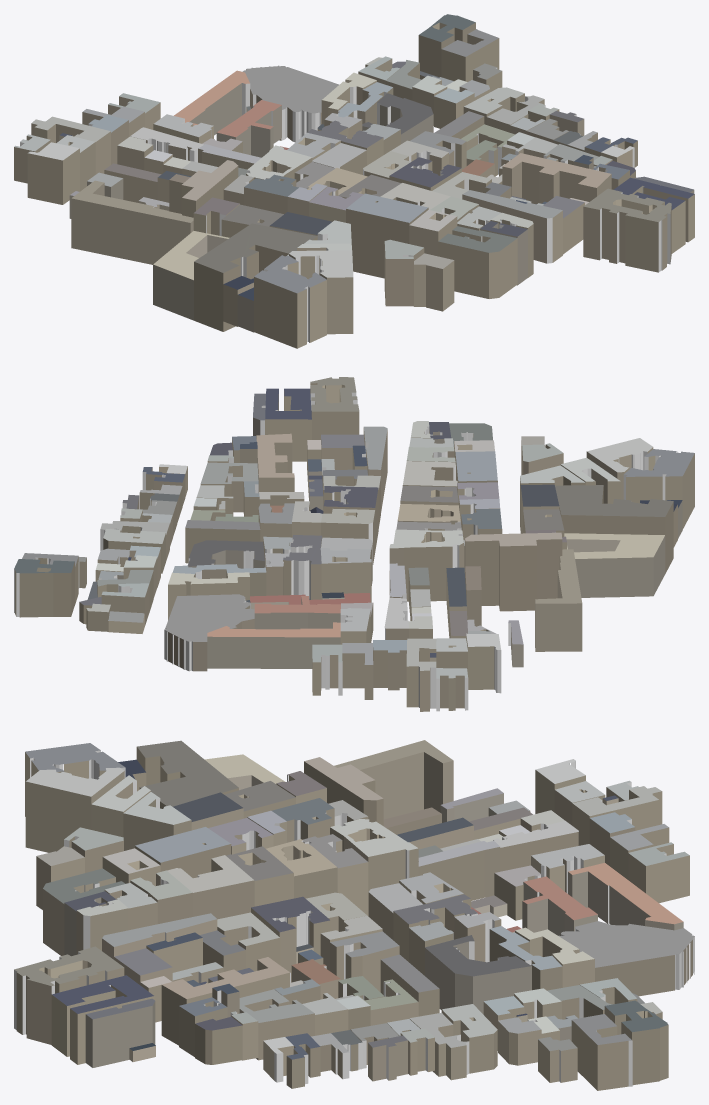
The picture shows the model from 3 angles, top to bottom: view 1: azimuth 30°, elevation 25°; view 2: azimuth 150°, elevation 25°; view 3: azimuth 270°, elevation 25°; orthographic projection. The views are drawn at different scales.
Visible parts, largest first — view 1: tuile; view 2: tuile; view 3: tuile.
Boxes of the visible parts, left/top/right/bottom form: tuile: left=14, top=14, right=694, bottom=348; tuile: left=14, top=377, right=694, bottom=711; tuile: left=14, top=740, right=694, bottom=1090.
Size of the model in its own units: 281 by 40.61 by 278.
